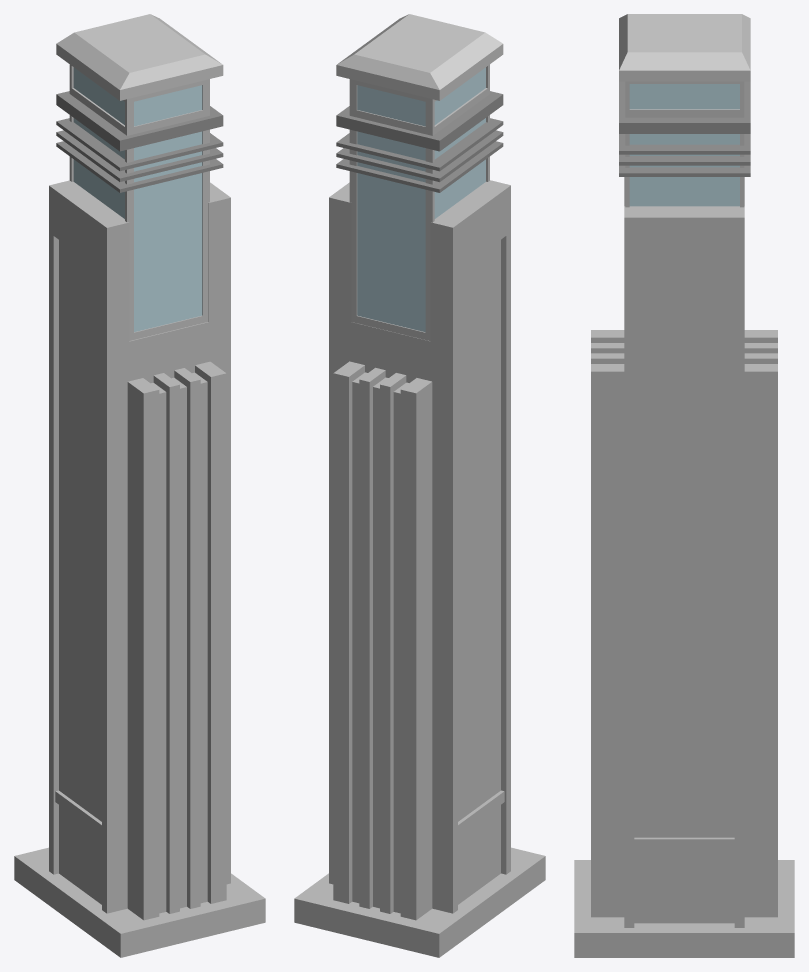
The picture shows the model from 3 angles, left to right: view 1: azimuth 30°, elevation 25°; view 2: azimuth 150°, elevation 25°; view 3: azimuth 270°, elevation 25°; orthographic projection. The views are drawn at different scales.
Parts seen in each view (by area): view 1: Group_441; view 2: Group_441; view 3: Group_441.
Boxes of the visible parts, bbox=[...] form: Group_441: bbox=[14, 14, 265, 957]; Group_441: bbox=[294, 14, 545, 957]; Group_441: bbox=[574, 14, 794, 957].
Bounding box in the file's own units: 17.01 × 96.26 × 21.65.
